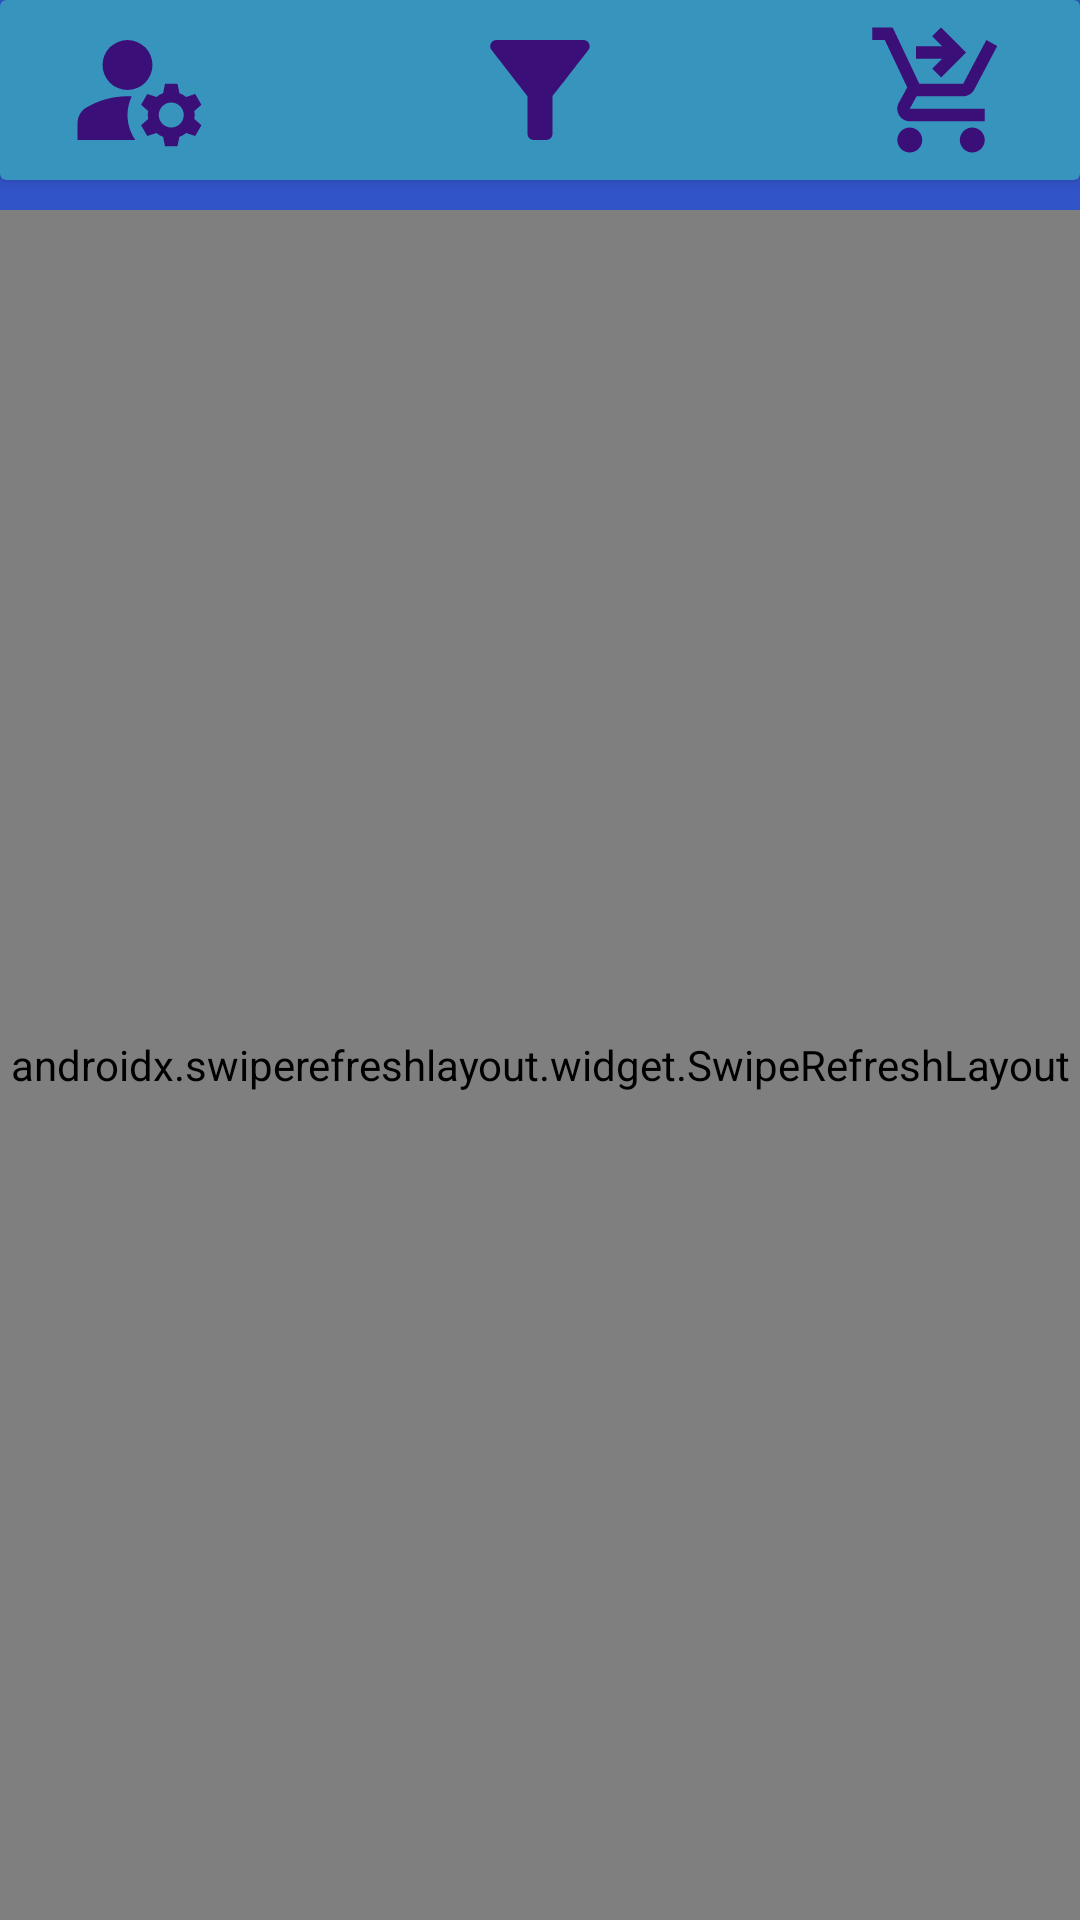

Screen size 1080*1920. Icon name, then its box in pixels as box=[x1, y1, x2, y2]:
filter: box=[490, 40, 590, 140]
manage accounts: box=[77, 40, 202, 147]
shopping cart checkout: box=[872, 27, 997, 153]
